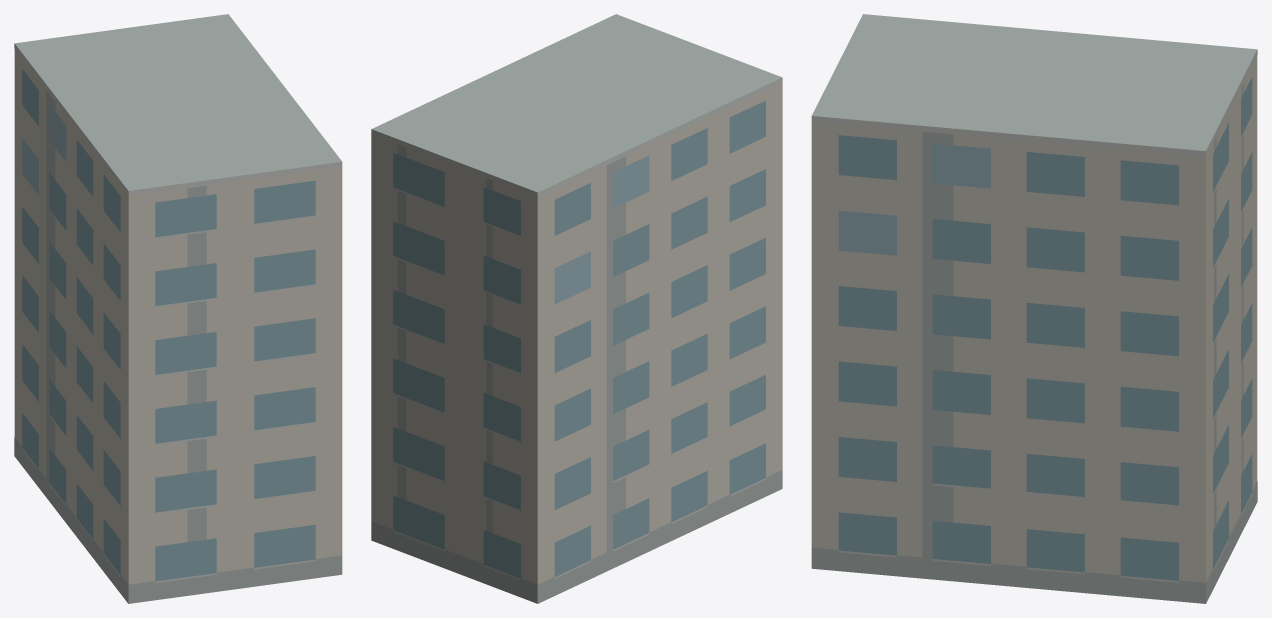
The model's file is survey-upis-32810036.glb.
3 renders of one model, left to right at view 1: azimuth 30°, elevation 25°; view 2: azimuth 150°, elevation 25°; view 3: azimuth 270°, elevation 25°, orthographic. The views are drawn at different scales.
Parts seen in each view (by area): view 1: survey-upis-32810036.tmp; view 2: survey-upis-32810036.tmp; view 3: survey-upis-32810036.tmp.
Part boxes in pixels (x1,y1,x2,y2): survey-upis-32810036.tmp: [14, 14, 342, 603]; survey-upis-32810036.tmp: [371, 14, 782, 603]; survey-upis-32810036.tmp: [811, 14, 1257, 603].
Bounding box in the file's own units: 12.22 × 18.8 × 16.78.
